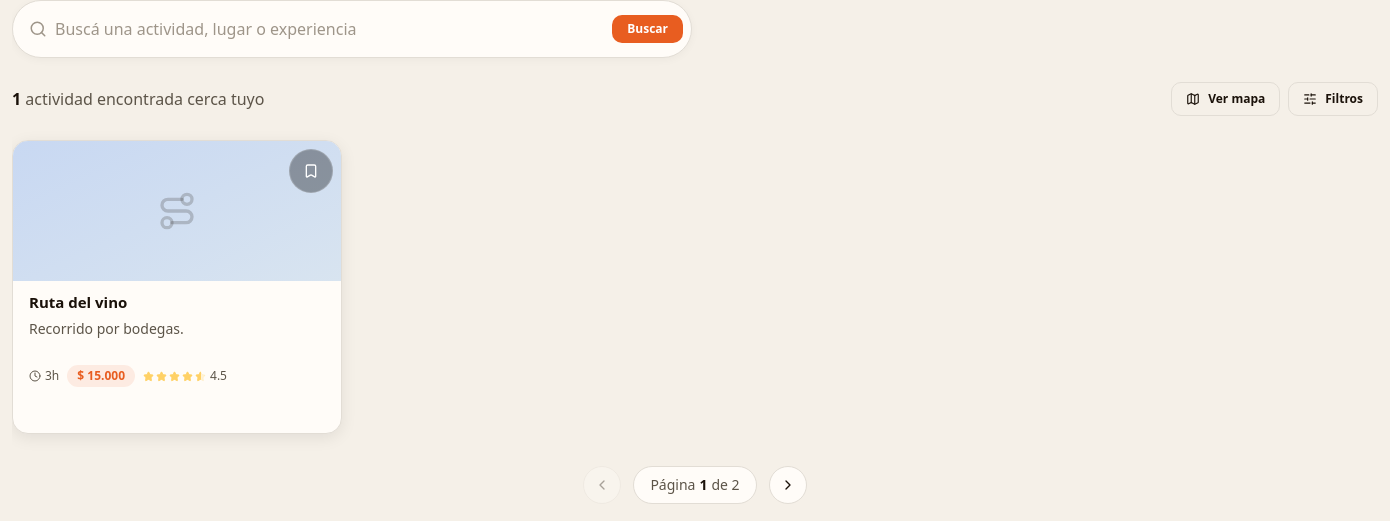
Scenario: ActivitySearch › replaces the grid with the next page instead of appending to it
Expected: the heading "Ruta del vino" is shown, [29,292,127,312]
Expected: the navigation bar named "Paginación de resultados" is shown, [583,466,807,504]
Click the button named "Página siguiente": (788, 485) [769,466,807,504]
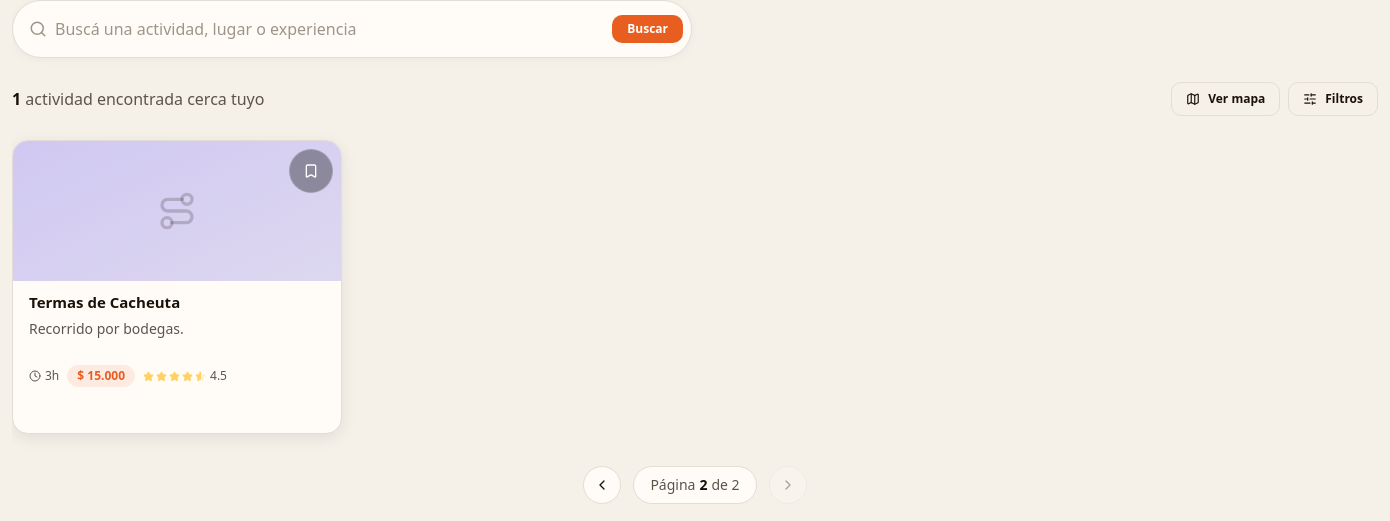
Now the heading "Termas de Cacheuta" is shown, box [29,292,180,312]
Now the link "Ruta del vino" is gone
